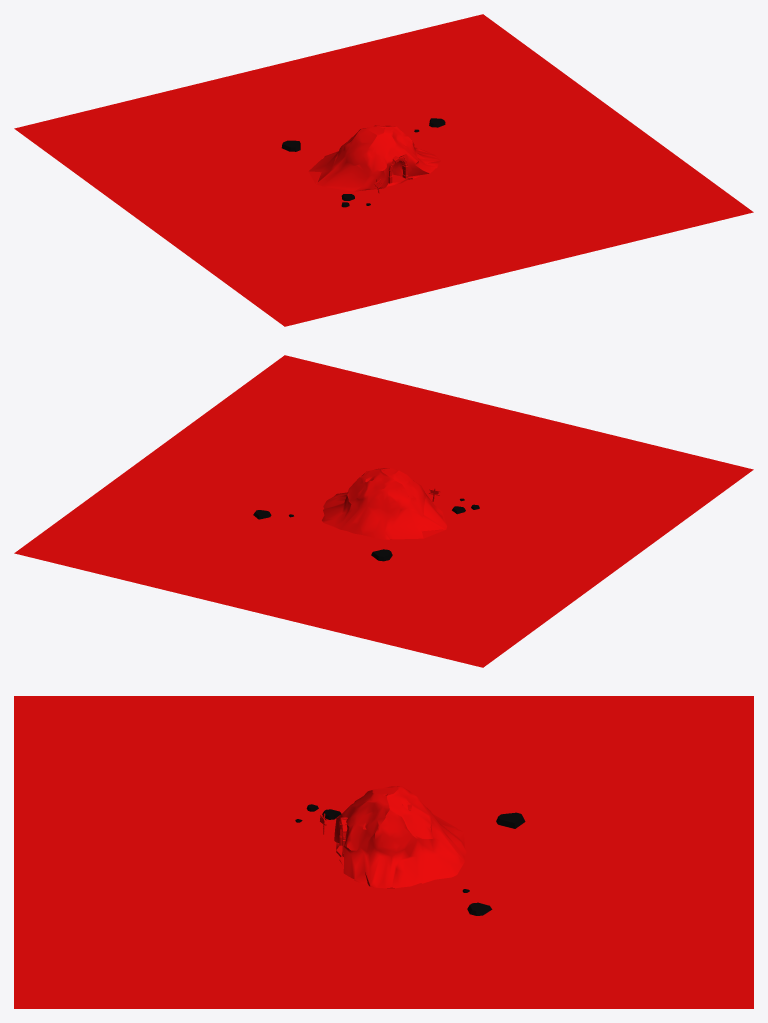
File: Environment_Lobby_01.glb
3 views of the same model, one above another, from view 1: azimuth 30°, elevation 25°; view 2: azimuth 150°, elevation 25°; view 3: azimuth 270°, elevation 25° (orthographic). The views are drawn at different scales.
Parts seen in each view (by area): view 1: pCube548, pCube547; view 2: pCube548, pCube547; view 3: pCube548, pCube547.
Boxes of the visible parts, bbox=[...] form: pCube548: bbox=[14, 14, 753, 326]; pCube547: bbox=[281, 118, 445, 207]; pCube548: bbox=[14, 355, 753, 667]; pCube547: bbox=[253, 468, 479, 561]; pCube548: bbox=[14, 696, 753, 1008]; pCube547: bbox=[295, 786, 525, 915].
Size of the model in its own units: 36.05 by 3.25 by 36.05.
